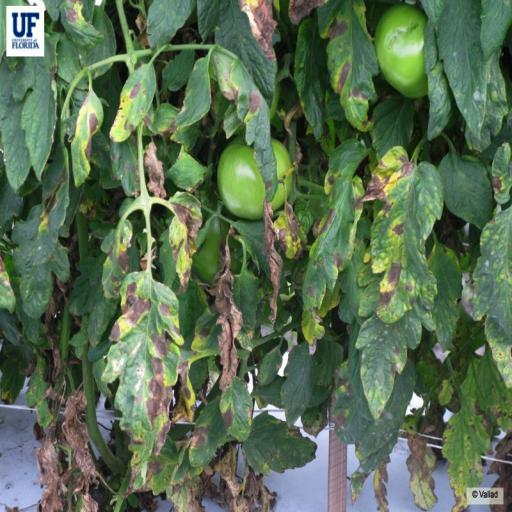disease_tomato: (300, 124, 364, 354), (366, 140, 441, 336), (115, 274, 185, 472), (212, 50, 280, 196), (195, 0, 277, 108), (316, 0, 380, 131), (157, 193, 209, 278), (118, 64, 158, 154), (168, 54, 212, 134), (102, 216, 134, 319), (68, 94, 104, 182), (188, 396, 228, 468), (218, 380, 256, 446)
